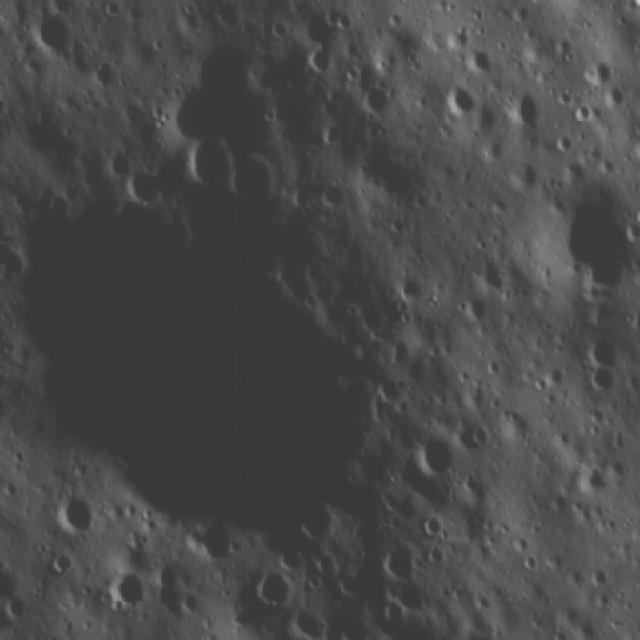crater: (20, 196, 394, 538), (522, 160, 636, 306), (400, 420, 466, 492), (174, 122, 234, 196), (25, 8, 100, 61), (110, 157, 176, 217), (250, 559, 296, 615), (435, 74, 487, 120), (369, 539, 423, 583), (506, 81, 552, 130), (51, 494, 100, 534), (387, 266, 428, 312), (108, 563, 147, 608), (415, 510, 451, 547)
